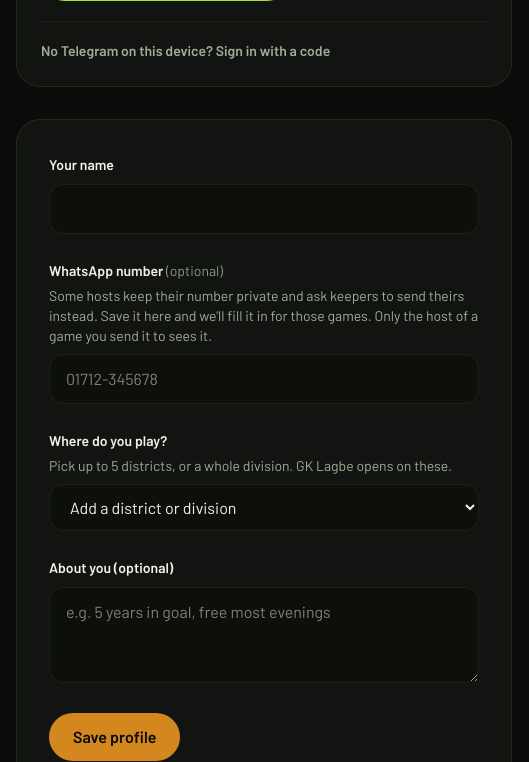
Test case: KeeperPage › shows field errors and saves nothing
(page scrolled)
Step 1. Type "123" into the field labelled "WhatsApp number (optional)" → (264, 379), box [49,354,479,404]
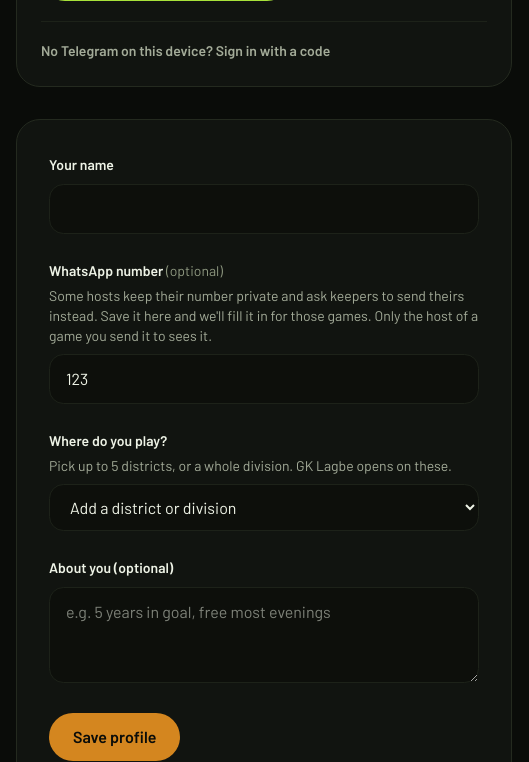
Step 2. Click the button "Save profile" → (115, 737), box [49,713,180,761]
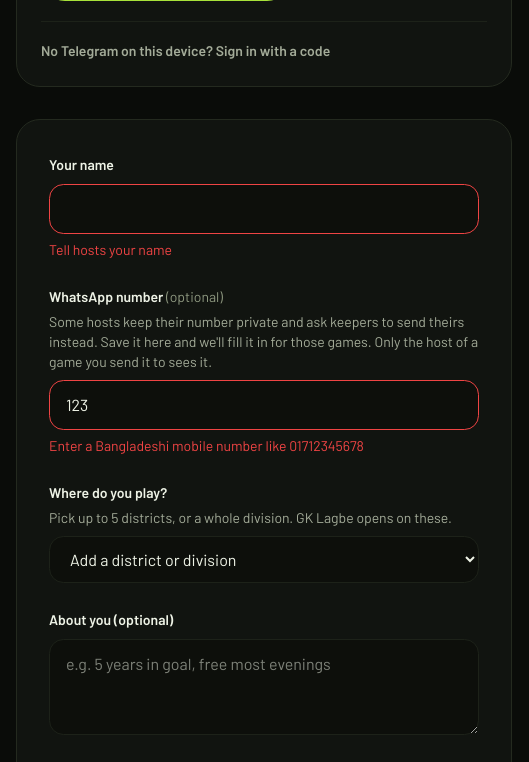
Now the text "Tell hosts your name" is shown, box [49,241,172,258]
Now the text "Enter a Bangladeshi mobile number like 01712345678" is shown, box [49,437,364,454]
